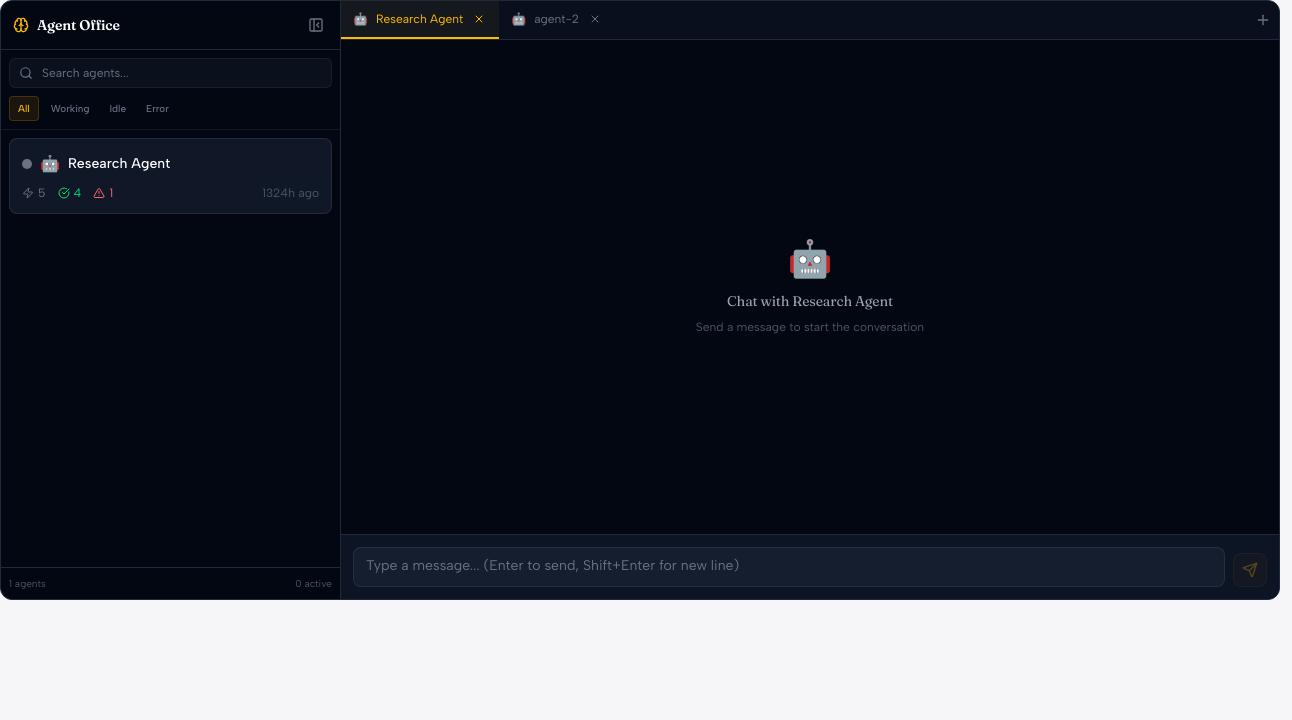
Test: CommandCenter â€” tab management › closes the active tab and falls back to the remaining tab
Expected: the text "agent-2" is shown, [534, 11, 579, 27]
# Close the active tab via its X button
What coordinates should you click on to do the following:
click the button with class "lucide-x"
I would click on:
 (479, 19)
Its box is [471, 11, 487, 27].
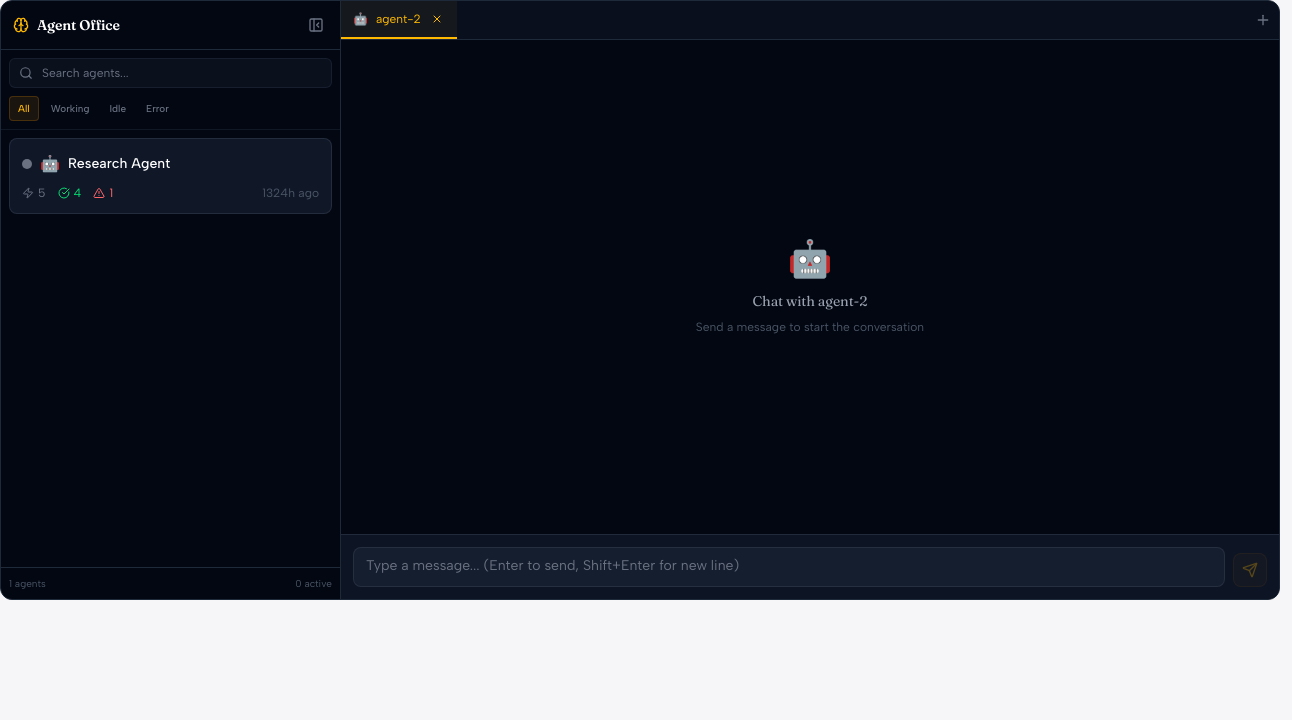
Expected: the text "agent-2" is shown, [376, 11, 421, 27]
Result: the number of icons with class "lucide-x" is 1 at [431, 13, 443, 25]
